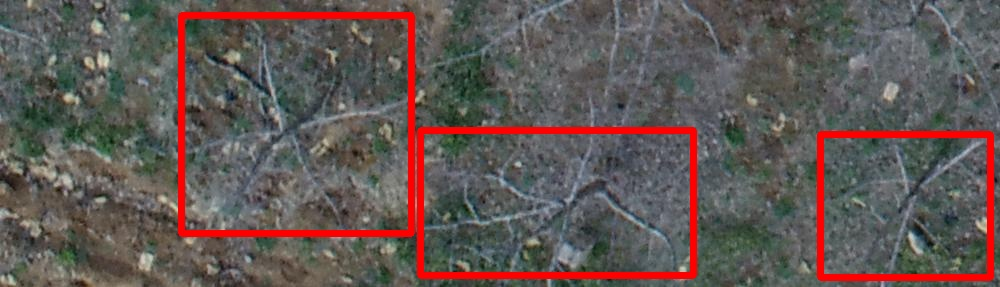apple: (181, 15, 411, 233), (420, 130, 693, 275), (820, 134, 990, 277)
